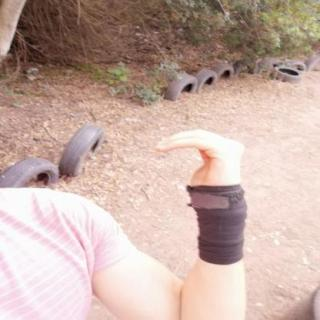HAA: (144, 121, 258, 202)
